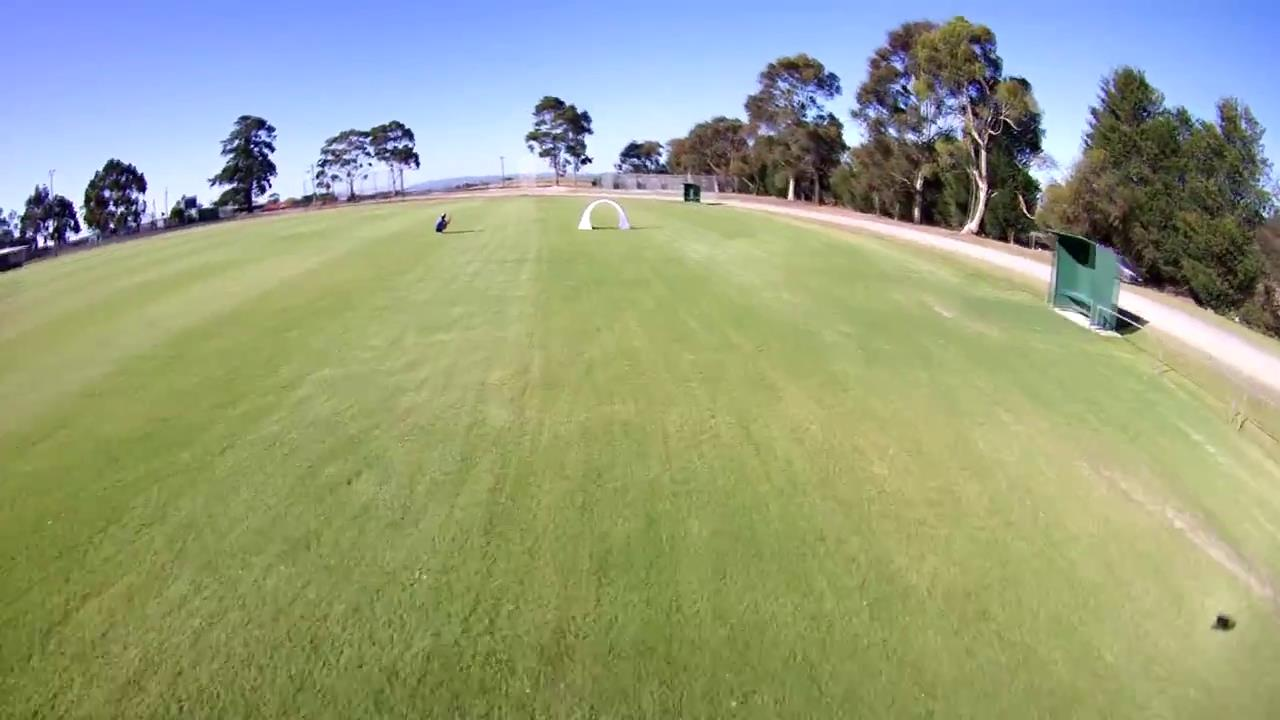gate: (576, 198, 634, 232)
